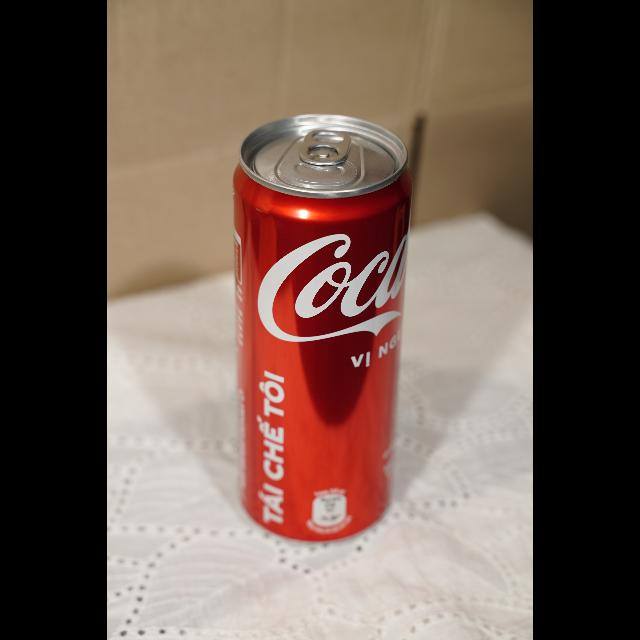coca_cola: (232, 113, 414, 543)
